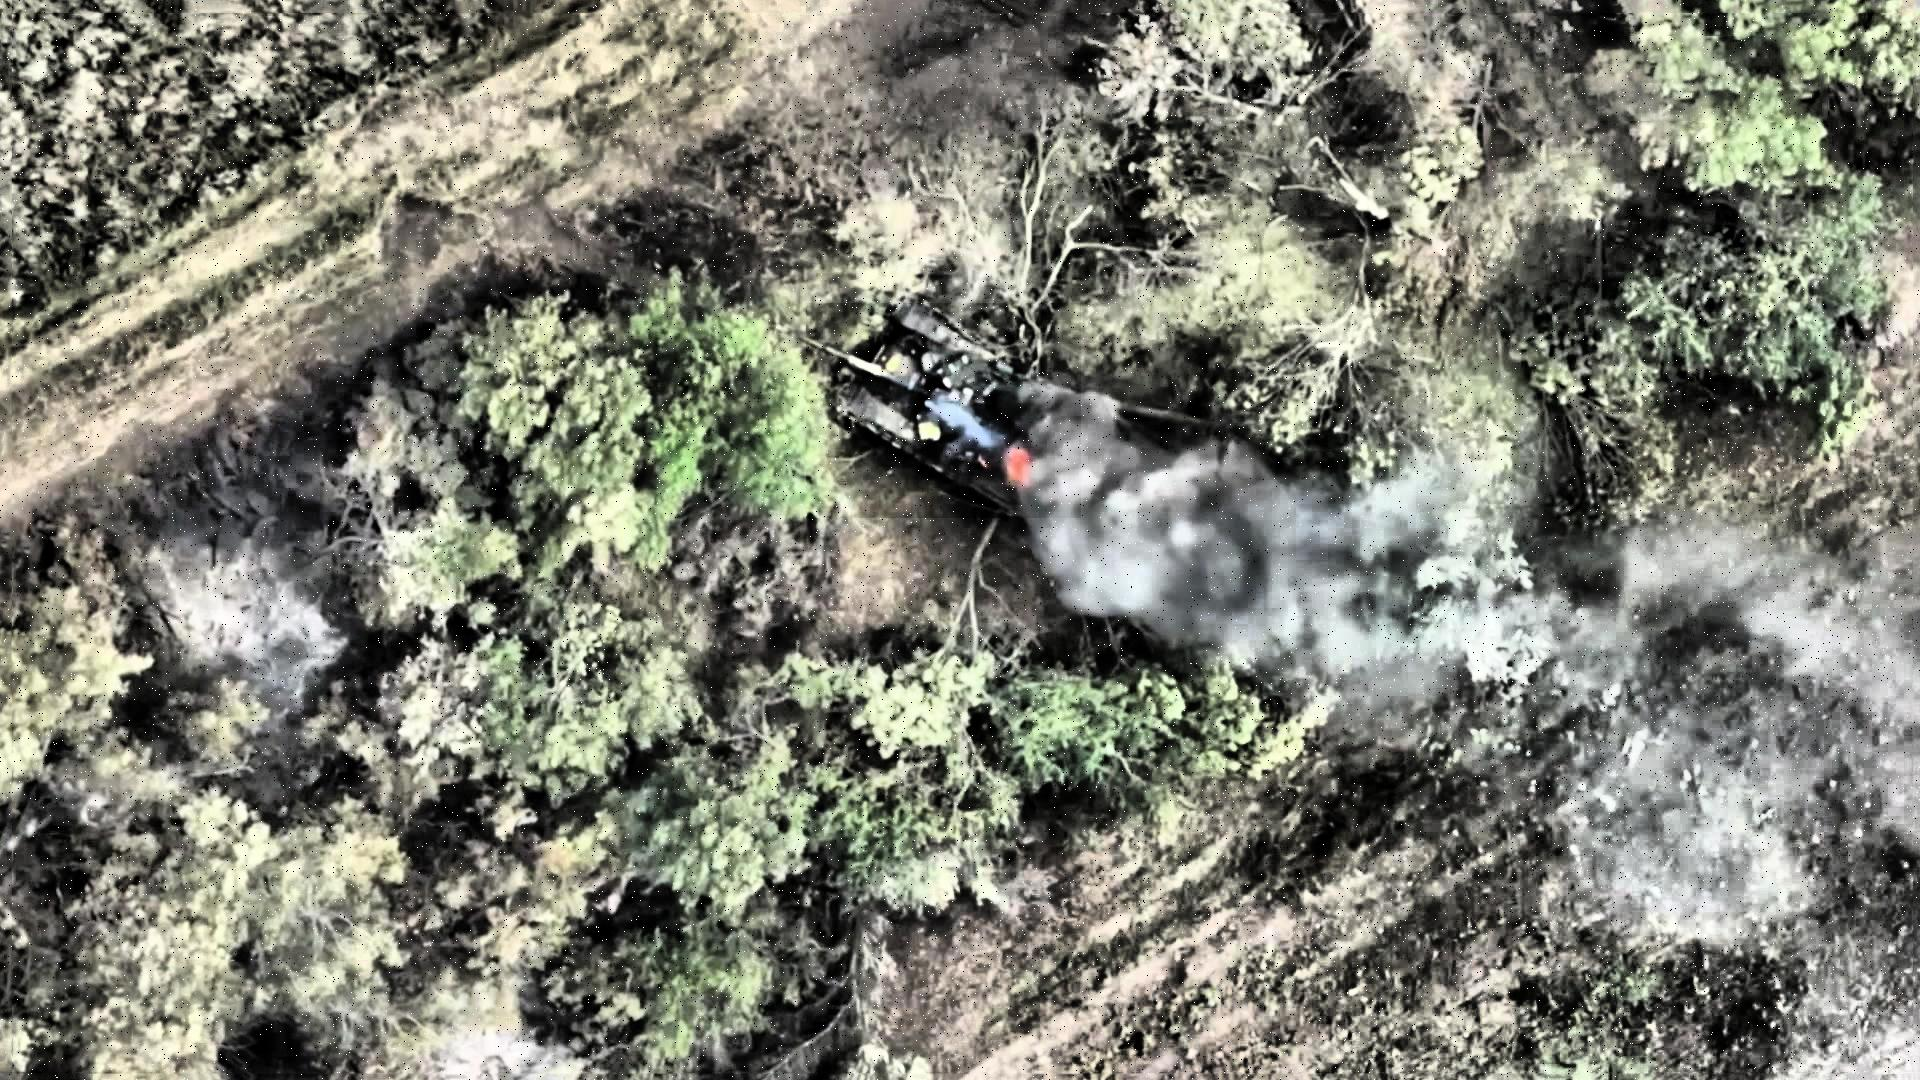military-vehicle: (807, 303, 1081, 518)
